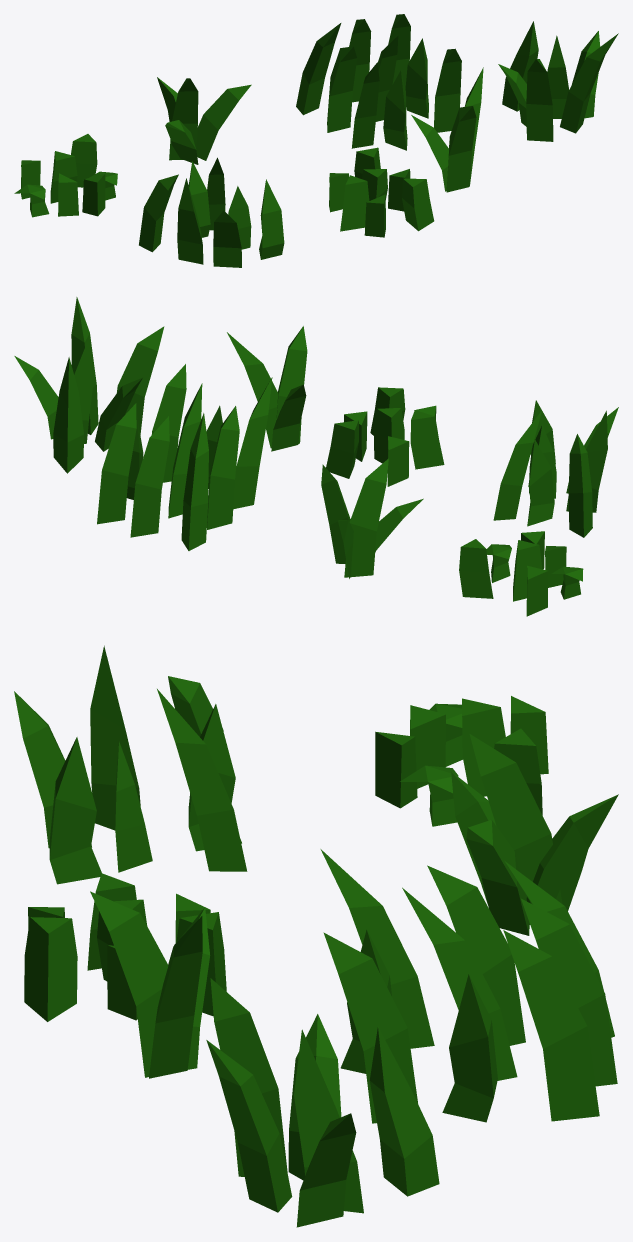
Rendered from Grass.fbx.
The picture shows the model from 3 angles, top to bottom: view 1: azimuth 30°, elevation 25°; view 2: azimuth 150°, elevation 25°; view 3: azimuth 270°, elevation 25°; orthographic projection. The views are drawn at different scales.
Visible parts, largest first — view 1: GrassBunch7, GrassBunch1, GrassBunch4, GrassBunch3, GrassBunch6, GrassBunch5, GrassBunch2; view 2: GrassBunch7, GrassBunch4, GrassBunch1, GrassBunch3, GrassBunch6, GrassBunch5, GrassBunch2; view 3: GrassBunch7, GrassBunch4, GrassBunch1, GrassBunch5, GrassBunch6, GrassBunch2, GrassBunch3.
Part boxes in pixels (left/top/right/bottom): GrassBunch7: left=296, top=14, right=461, bottom=150; GrassBunch1: left=139, top=157, right=284, bottom=267; GrassBunch4: left=498, top=21, right=618, bottom=141; GrassBunch3: left=329, top=147, right=434, bottom=237; GrassBunch6: left=14, top=134, right=117, bottom=217; GrassBunch5: left=157, top=77, right=251, bottom=164; GrassBunch2: left=411, top=67, right=483, bottom=192; GrassBunch7: left=97, top=364, right=272, bottom=550; GrassBunch4: left=14, top=297, right=164, bottom=473; GrassBunch1: left=493, top=400, right=618, bottom=537; GrassBunch3: left=326, top=387, right=444, bottom=486; GrassBunch6: left=459, top=531, right=583, bottom=616; GrassBunch5: left=321, top=458, right=423, bottom=578; GrassBunch2: left=227, top=326, right=307, bottom=451; GrassBunch7: left=320, top=849, right=617, bottom=1123; GrassBunch4: left=206, top=978, right=439, bottom=1227; GrassBunch1: left=14, top=645, right=247, bottom=884; GrassBunch5: left=451, top=734, right=618, bottom=935; GrassBunch6: left=375, top=696, right=548, bottom=826; GrassBunch2: left=90, top=891, right=210, bottom=1078; GrassBunch3: left=24, top=873, right=226, bottom=1021.
Bounding box in the file's own units: 3.6 × 0.6535 × 1.83.
